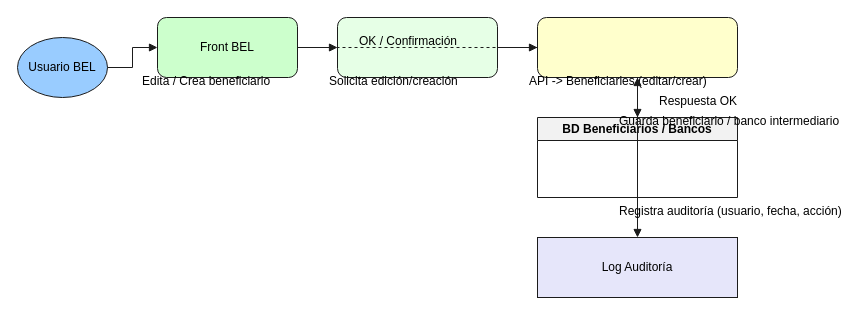
Some shapes in this 860 by 315 pixel diagram are drawn without their labels. Here are the shapes that lost their labels. From the top down, the centre of each, then its label:
[417,47]: APIM Management
[637,47]: system_services_beneficiaries
